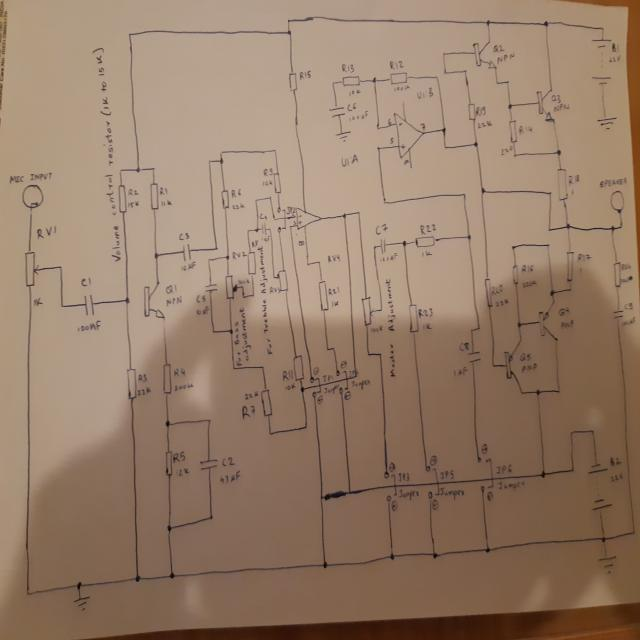capacitor: (198, 458, 220, 472), (84, 291, 95, 318), (329, 104, 346, 118), (468, 349, 481, 364), (181, 244, 191, 261), (204, 283, 218, 293), (379, 238, 386, 254), (612, 308, 623, 318), (261, 222, 266, 235)
ground: (596, 552, 618, 576), (596, 115, 618, 131), (73, 595, 90, 612), (335, 130, 352, 142)
junction: (75, 580, 83, 590), (431, 550, 438, 560), (169, 570, 175, 580), (322, 560, 328, 570), (134, 574, 141, 582), (540, 469, 546, 478), (484, 545, 490, 554), (153, 251, 159, 260), (441, 125, 447, 134), (25, 587, 31, 596), (166, 524, 172, 532), (466, 233, 472, 241), (480, 187, 486, 195), (485, 18, 491, 26), (565, 222, 571, 230), (516, 321, 522, 329), (59, 301, 65, 309), (473, 140, 479, 148), (535, 388, 541, 396), (127, 31, 133, 39), (556, 149, 562, 156), (442, 69, 448, 76), (549, 289, 555, 296), (118, 168, 124, 175), (542, 20, 548, 27), (382, 198, 388, 205), (372, 76, 377, 84), (58, 263, 63, 271), (570, 466, 575, 474), (376, 144, 381, 152), (379, 305, 383, 315), (631, 529, 636, 537), (434, 74, 439, 82), (610, 224, 615, 232), (208, 514, 214, 520), (402, 240, 407, 247), (287, 29, 292, 36), (214, 245, 219, 252), (136, 166, 141, 173), (547, 226, 552, 233), (618, 223, 623, 230), (372, 243, 377, 250), (126, 297, 130, 305), (165, 419, 169, 427), (342, 212, 347, 218), (151, 166, 156, 172), (211, 328, 216, 334), (569, 430, 574, 436), (219, 158, 224, 164), (286, 18, 291, 24), (463, 68, 468, 74), (331, 80, 336, 86), (366, 351, 371, 357), (356, 210, 361, 216), (300, 386, 305, 392), (508, 103, 512, 110), (511, 244, 515, 251), (442, 51, 446, 58), (462, 191, 466, 198), (546, 242, 550, 249), (601, 535, 605, 542), (444, 143, 448, 150), (229, 328, 233, 335), (600, 26, 605, 31), (347, 489, 352, 494), (491, 362, 495, 368), (376, 124, 380, 130), (557, 388, 561, 394), (304, 424, 308, 430), (591, 428, 595, 434), (506, 79, 510, 85), (378, 351, 382, 357), (495, 80, 499, 86), (477, 325, 481, 331), (326, 346, 330, 352), (331, 346, 335, 352), (226, 254, 230, 260), (261, 365, 265, 371), (390, 554, 394, 560), (208, 159, 212, 164), (273, 148, 277, 153), (306, 261, 310, 266), (268, 431, 272, 436), (255, 227, 259, 232), (207, 257, 211, 262), (268, 195, 272, 200), (254, 198, 258, 203), (469, 328, 473, 333), (232, 365, 236, 370), (251, 292, 254, 298), (513, 153, 517, 157), (242, 294, 245, 299), (569, 287, 572, 292), (207, 419, 210, 423), (247, 228, 250, 232), (273, 217, 276, 221), (268, 227, 271, 231), (354, 374, 358, 377), (289, 225, 292, 229), (240, 285, 243, 288), (272, 274, 274, 278)
resistor: (23, 250, 40, 288), (359, 294, 374, 330), (556, 167, 568, 202), (316, 279, 328, 312), (224, 274, 238, 301), (126, 367, 137, 400), (276, 268, 289, 295), (292, 354, 305, 381), (162, 362, 172, 396), (565, 249, 575, 282), (261, 388, 272, 417), (612, 259, 622, 290), (117, 185, 128, 213), (408, 303, 418, 333), (508, 119, 519, 146), (149, 182, 159, 211), (416, 236, 436, 250), (389, 70, 408, 84), (165, 449, 174, 478), (246, 251, 256, 276), (342, 75, 362, 87), (484, 278, 492, 307), (272, 172, 282, 194), (220, 189, 230, 209), (288, 72, 298, 91), (468, 102, 476, 121), (512, 264, 518, 287)
source: (586, 456, 612, 514), (589, 36, 613, 86)
switch: (476, 455, 494, 494), (424, 465, 440, 501), (384, 469, 398, 502), (335, 369, 349, 393), (309, 375, 322, 398), (276, 205, 286, 232)
terminal: (401, 98, 406, 106), (409, 163, 414, 169)
text: (92, 43, 122, 264), (258, 245, 274, 355), (385, 278, 396, 336), (8, 171, 53, 185), (240, 308, 250, 362), (439, 486, 466, 504), (598, 175, 628, 190), (398, 487, 420, 503), (77, 320, 102, 334), (36, 224, 57, 240), (496, 480, 526, 491), (234, 321, 241, 367), (220, 470, 240, 486), (388, 342, 396, 378), (351, 377, 372, 390), (416, 86, 434, 101), (340, 153, 359, 167), (552, 100, 571, 114), (348, 110, 369, 122), (496, 52, 516, 64), (495, 463, 513, 476), (179, 261, 197, 274), (419, 222, 436, 235), (165, 294, 182, 307), (242, 404, 256, 419), (379, 252, 398, 263), (609, 470, 624, 483), (560, 318, 575, 331), (323, 384, 339, 396), (521, 362, 538, 373), (221, 455, 235, 468), (500, 143, 513, 157), (609, 454, 623, 467), (418, 307, 434, 318), (375, 222, 388, 235), (568, 172, 580, 186), (80, 275, 92, 289), (492, 43, 507, 54), (577, 252, 592, 263), (137, 386, 152, 397), (195, 305, 210, 316), (621, 315, 636, 326), (494, 298, 510, 308), (165, 282, 178, 294), (173, 451, 186, 463), (440, 469, 454, 480), (175, 382, 192, 391), (389, 60, 404, 70), (175, 467, 190, 477), (300, 69, 312, 81), (231, 250, 247, 259), (550, 92, 562, 104), (474, 106, 486, 118), (393, 84, 411, 92), (521, 263, 534, 274), (341, 63, 355, 73), (327, 253, 341, 263), (244, 390, 258, 400), (620, 274, 634, 284), (518, 125, 533, 134), (492, 284, 503, 296), (452, 367, 468, 375), (478, 120, 492, 129), (607, 54, 621, 63), (518, 353, 532, 362), (231, 187, 242, 198), (282, 369, 293, 380), (284, 381, 296, 391), (398, 472, 410, 482), (558, 306, 570, 316), (173, 368, 186, 377), (611, 41, 620, 54), (459, 341, 469, 352), (138, 372, 148, 383), (428, 455, 438, 466), (158, 185, 168, 196), (262, 167, 274, 176), (178, 232, 190, 241), (328, 286, 340, 295), (160, 198, 172, 207), (128, 200, 140, 209), (232, 203, 245, 211), (321, 374, 334, 382), (348, 89, 361, 97), (270, 284, 280, 294), (348, 370, 359, 379), (346, 102, 357, 111), (237, 278, 250, 285), (481, 442, 488, 455), (624, 301, 634, 310), (621, 262, 632, 270), (128, 188, 139, 196), (34, 296, 41, 308), (261, 179, 273, 186), (522, 282, 536, 288), (197, 294, 206, 303), (422, 322, 431, 331), (375, 324, 383, 334), (340, 360, 348, 370), (251, 238, 259, 248), (260, 234, 270, 242), (390, 500, 398, 510), (432, 499, 439, 510), (259, 212, 268, 220), (286, 206, 295, 214), (330, 300, 339, 308), (344, 391, 352, 400), (316, 396, 324, 405), (388, 461, 395, 471), (487, 491, 493, 501), (420, 121, 425, 131), (312, 367, 319, 374), (298, 239, 304, 247), (400, 144, 406, 151), (389, 135, 394, 143), (388, 117, 392, 125), (398, 121, 402, 129), (404, 159, 409, 165), (298, 220, 303, 225), (293, 220, 296, 225), (298, 214, 301, 219), (292, 212, 294, 217)
transistor: (502, 336, 524, 396), (537, 301, 559, 344), (142, 281, 165, 320), (536, 85, 556, 124), (472, 39, 496, 70)
